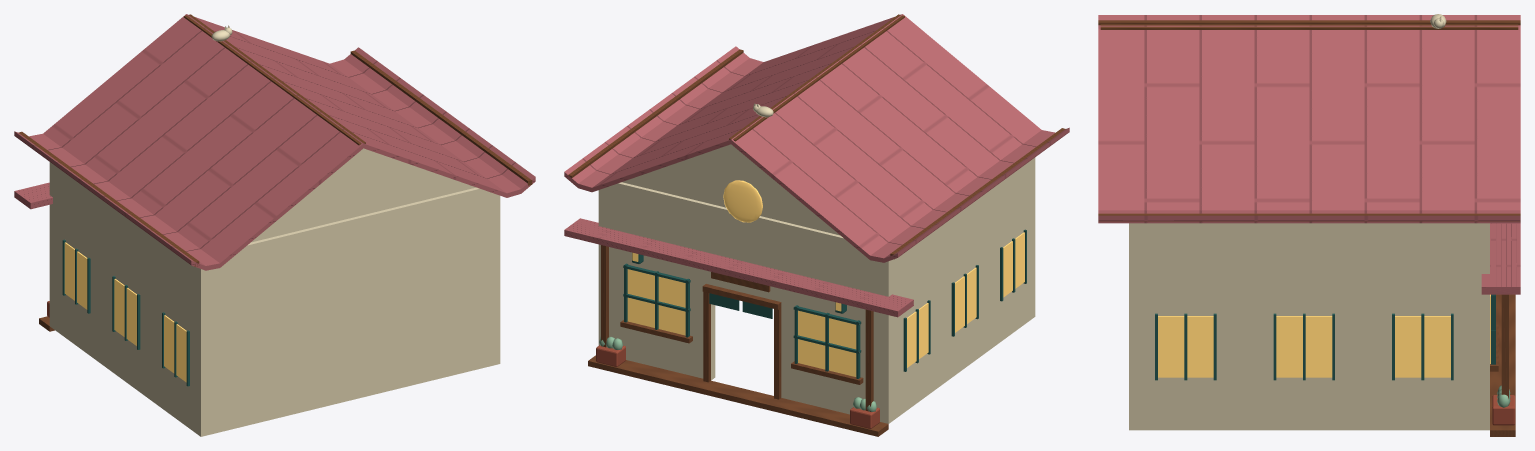
File: blossom_bistro_exterior_lod0.glb
3 renders of one model, left to right at view 1: azimuth 30°, elevation 25°; view 2: azimuth 150°, elevation 25°; view 3: azimuth 270°, elevation 25°, orthographic. The views are drawn at different scales.
Parts seen in each view (by area): view 1: blossom_bistro_exterior_lod0.006; view 2: blossom_bistro_exterior_lod0.006; view 3: blossom_bistro_exterior_lod0.006.
Boxes of the visible parts, x1=… form: blossom_bistro_exterior_lod0.006: x1=14, y1=14, x2=535, y2=436; blossom_bistro_exterior_lod0.006: x1=564, y1=14, x2=1069, y2=436; blossom_bistro_exterior_lod0.006: x1=1098, y1=14, x2=1520, y2=436.
Size of the model in its own units: 9.2 by 7.23 by 8.2.
Materials: 1 (1 with a texture image).
